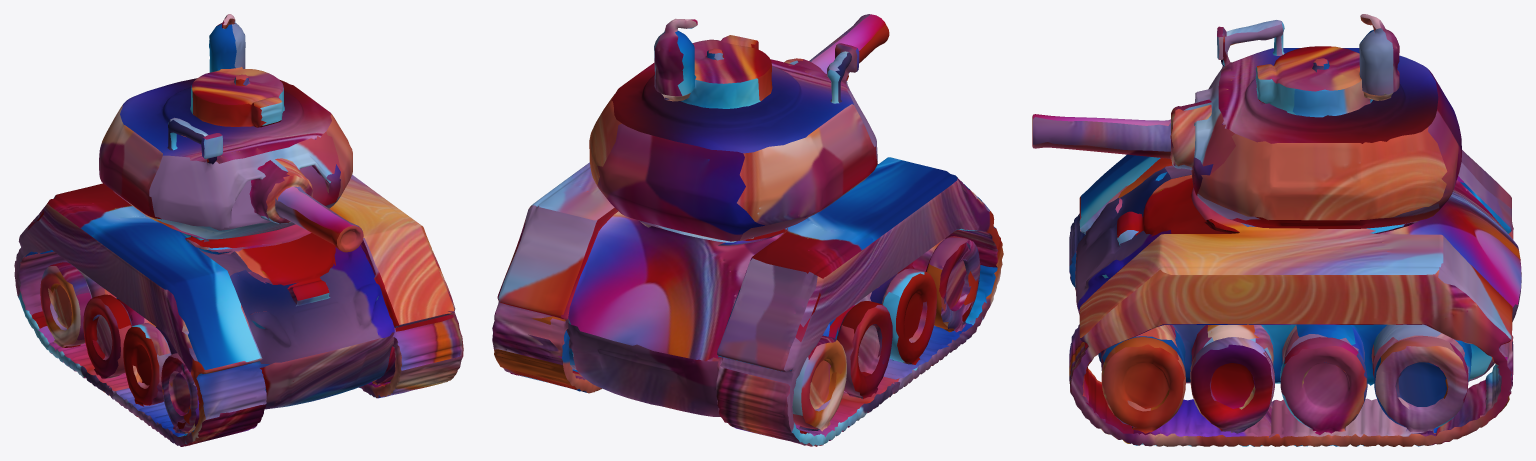
The model's file is Tank.fbx.
The picture shows the model from 3 angles, left to right: view 1: azimuth 30°, elevation 25°; view 2: azimuth 150°, elevation 25°; view 3: azimuth 270°, elevation 25°; orthographic projection. The views are drawn at different scales.
Parts seen in each view (by area): view 1: tmpebe3hmup.ply; view 2: tmpebe3hmup.ply; view 3: tmpebe3hmup.ply.
Boxes of the visible parts, left/top/right/bottom form: tmpebe3hmup.ply: left=14, top=14, right=463, bottom=446; tmpebe3hmup.ply: left=492, top=14, right=1003, bottom=446; tmpebe3hmup.ply: left=1032, top=14, right=1521, bottom=446.
Bounding box in the file's own units: 142 × 166 × 199.
